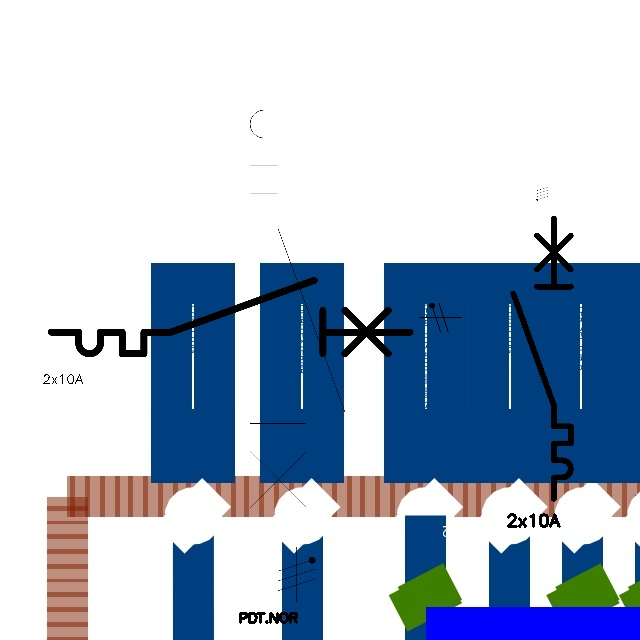interruptor_termomagnetico: (238, 63, 356, 547), (42, 271, 419, 363), (506, 211, 578, 505)
